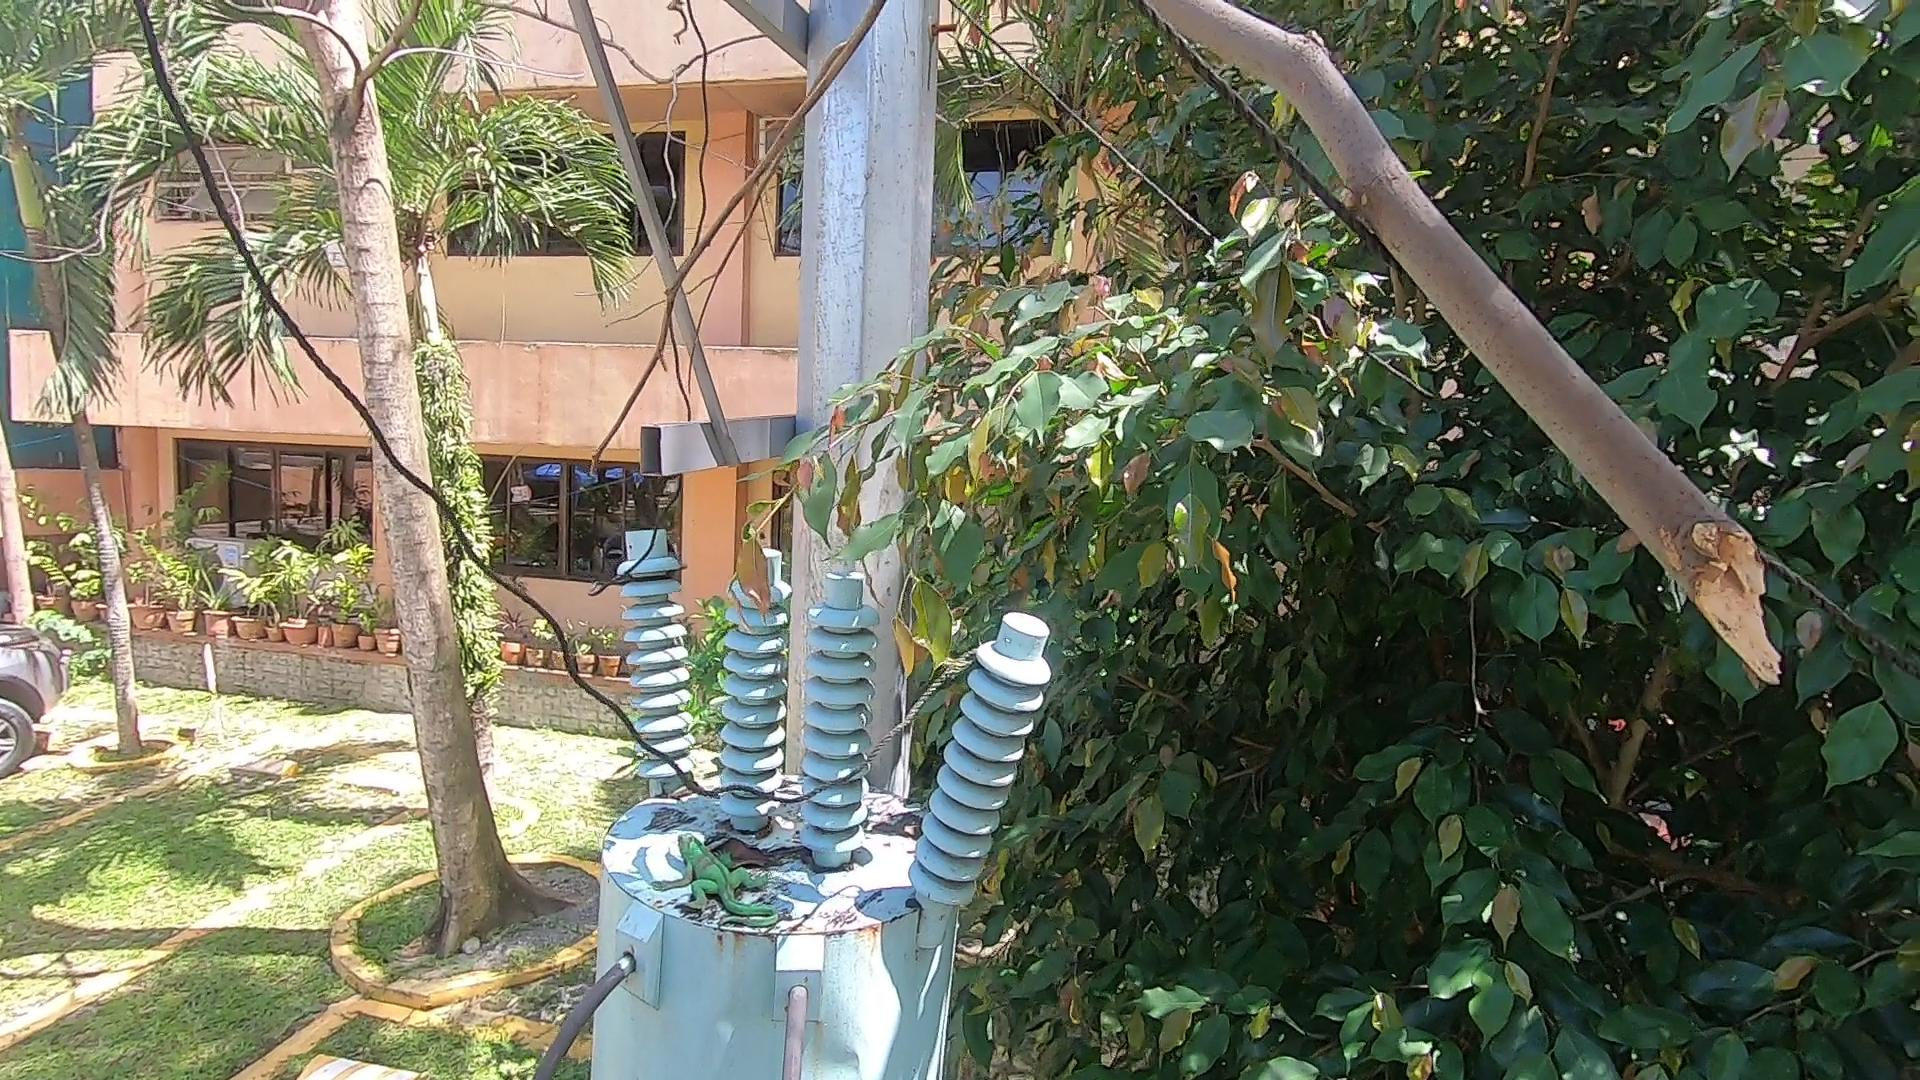branch with leaves: (723, 359, 1025, 669)
leaf: (695, 828, 781, 880), (878, 800, 928, 857), (653, 774, 720, 807)
tree branch: (1120, 7, 1818, 702)
